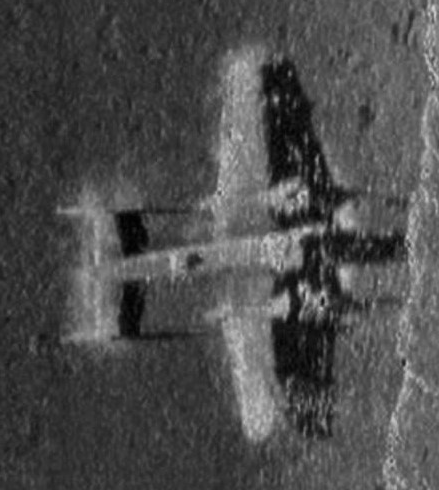plane: (61, 45, 343, 444)
